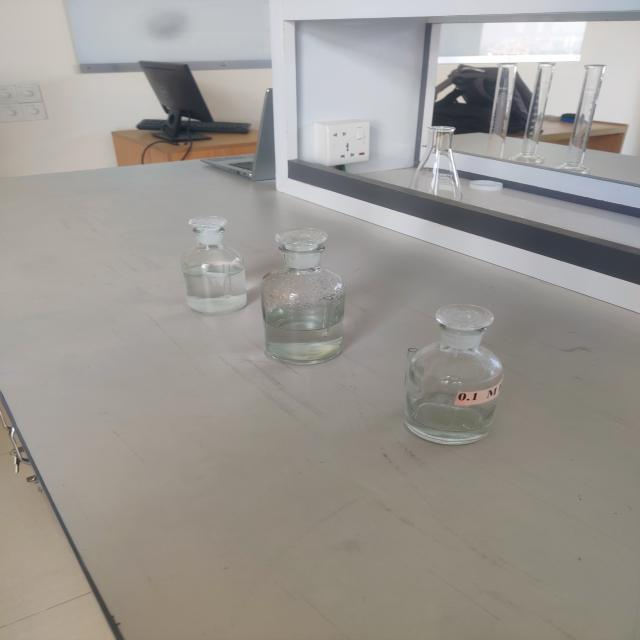Reagent_Bottle: (388, 287, 557, 458), (241, 211, 376, 380), (165, 203, 258, 320)
